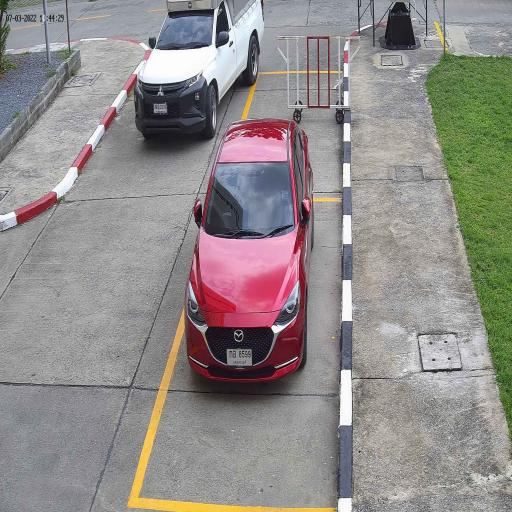car: (186, 119, 313, 381), (135, 0, 264, 137)
